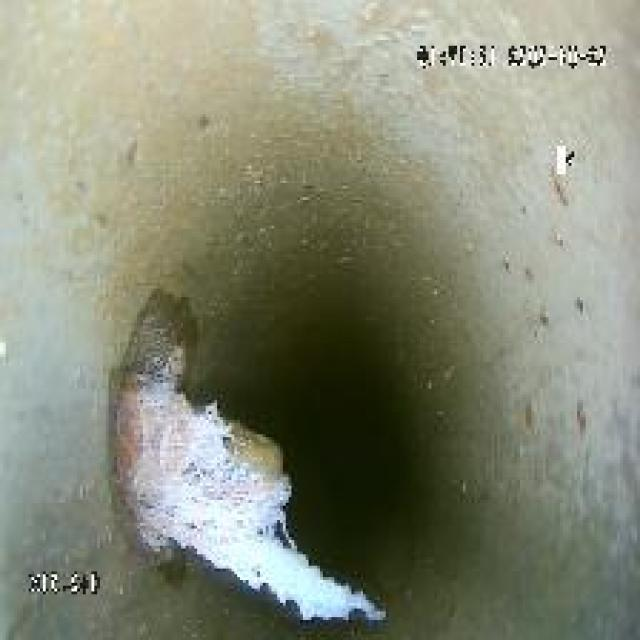ferrule: (109, 312, 394, 628)
